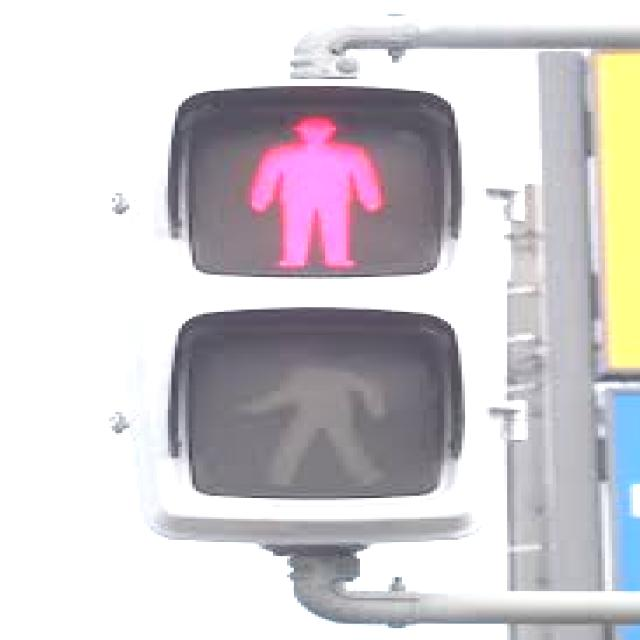trafficlight: (116, 81, 490, 538)
